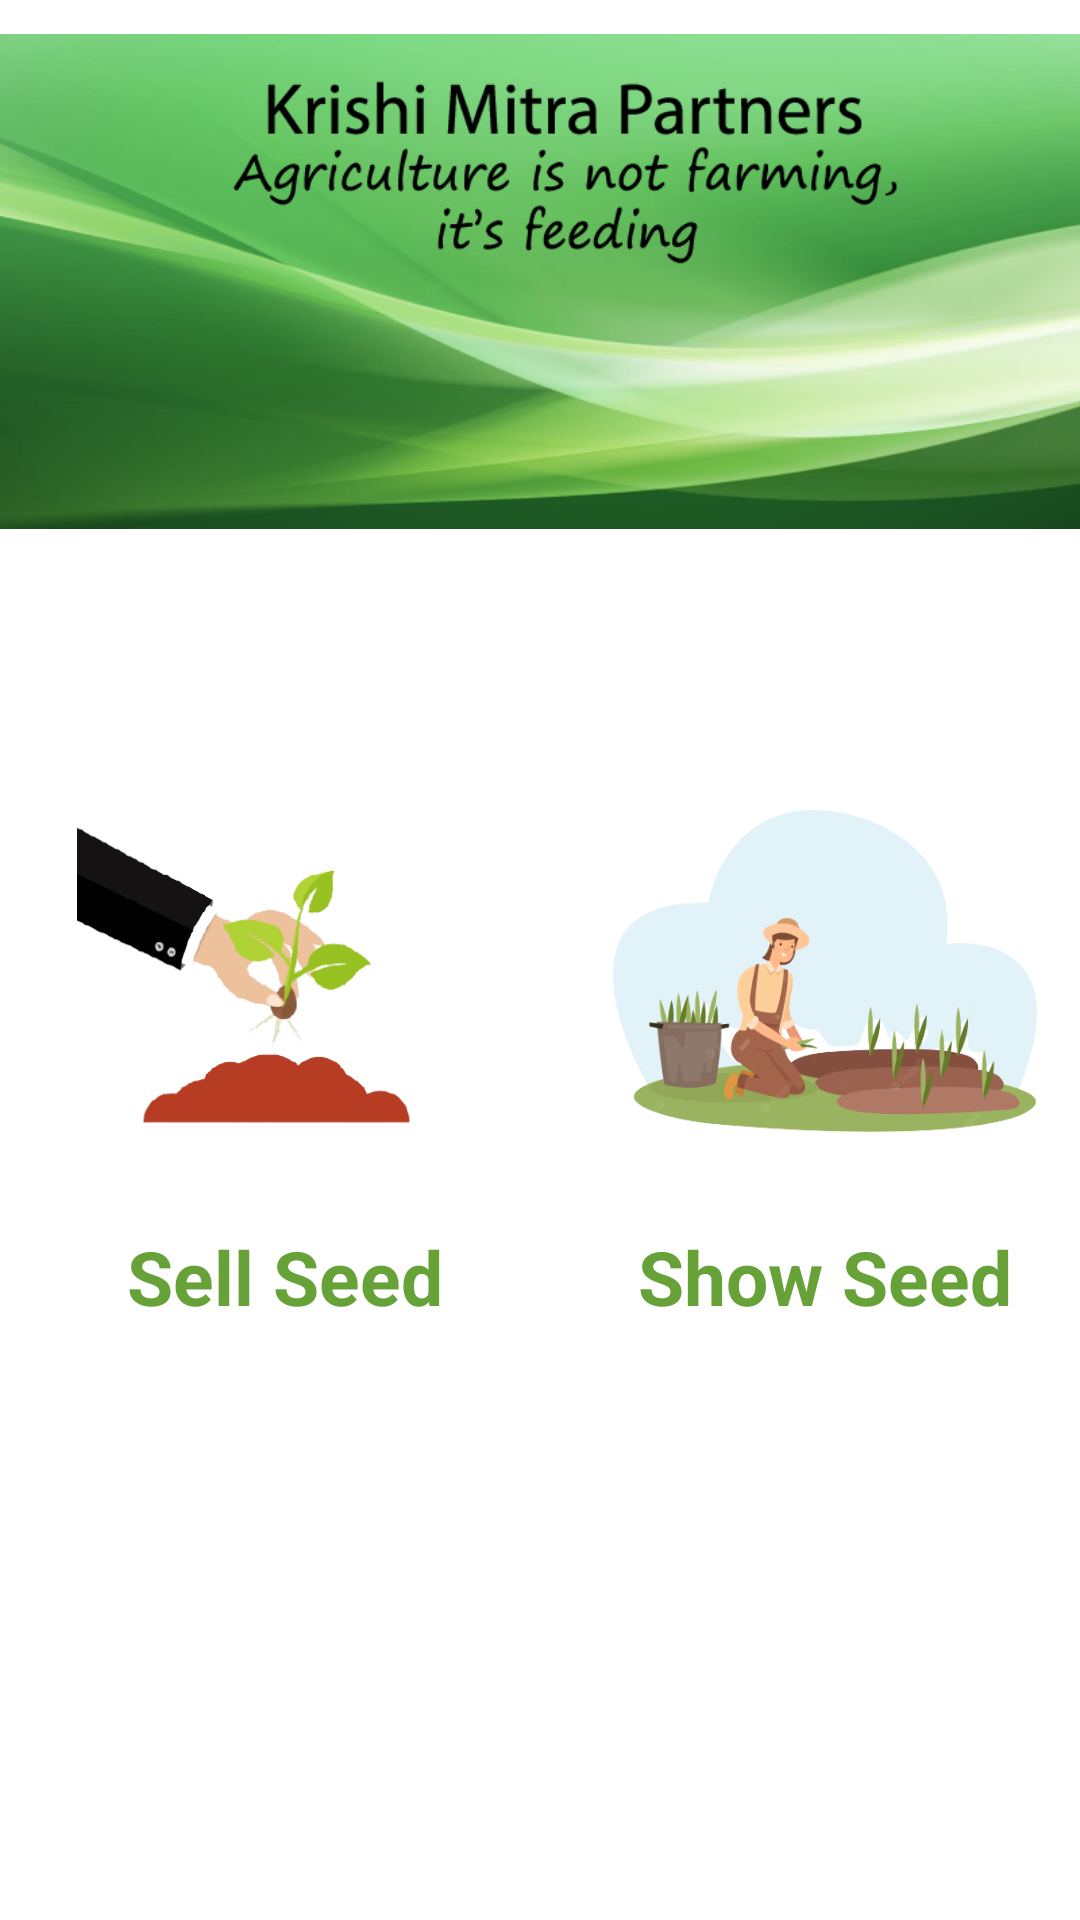

Where icons sit on this 1080*1920 app screen, as (x1, y1, x2, y2):
addseeds: (77, 827, 410, 1123)
